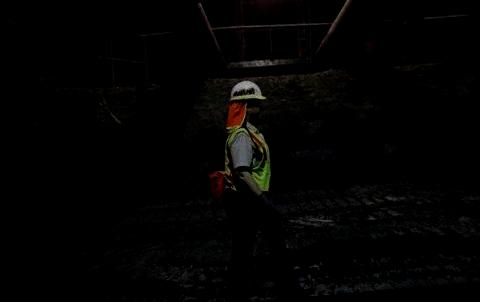helmet: (225, 77, 274, 111)
person: (210, 73, 307, 302)
